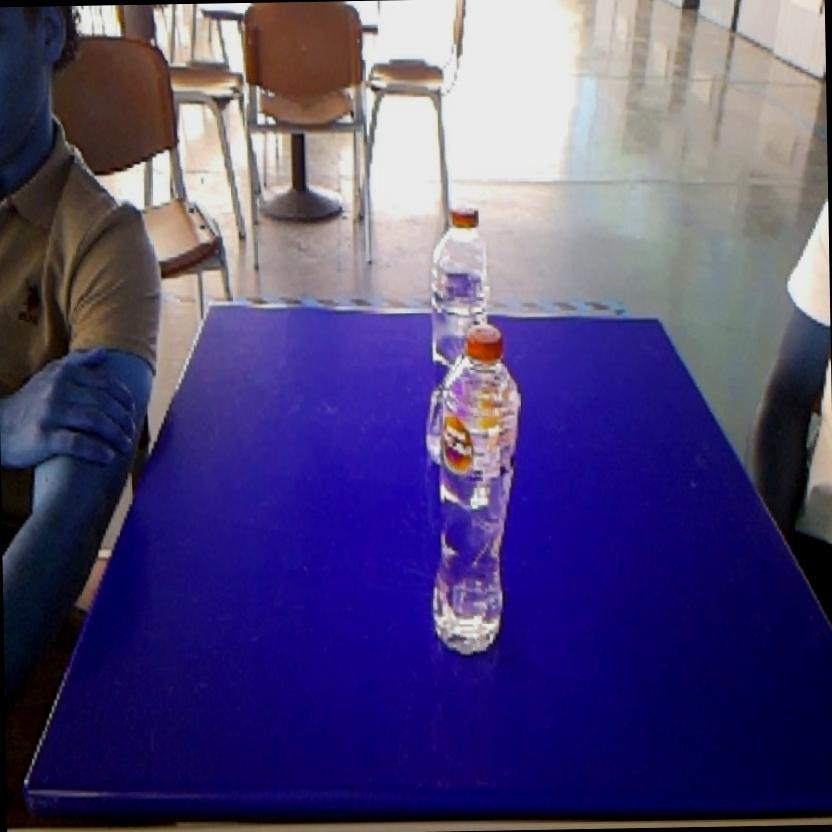good: (422, 320, 534, 668)
no_label: (423, 190, 498, 320)
